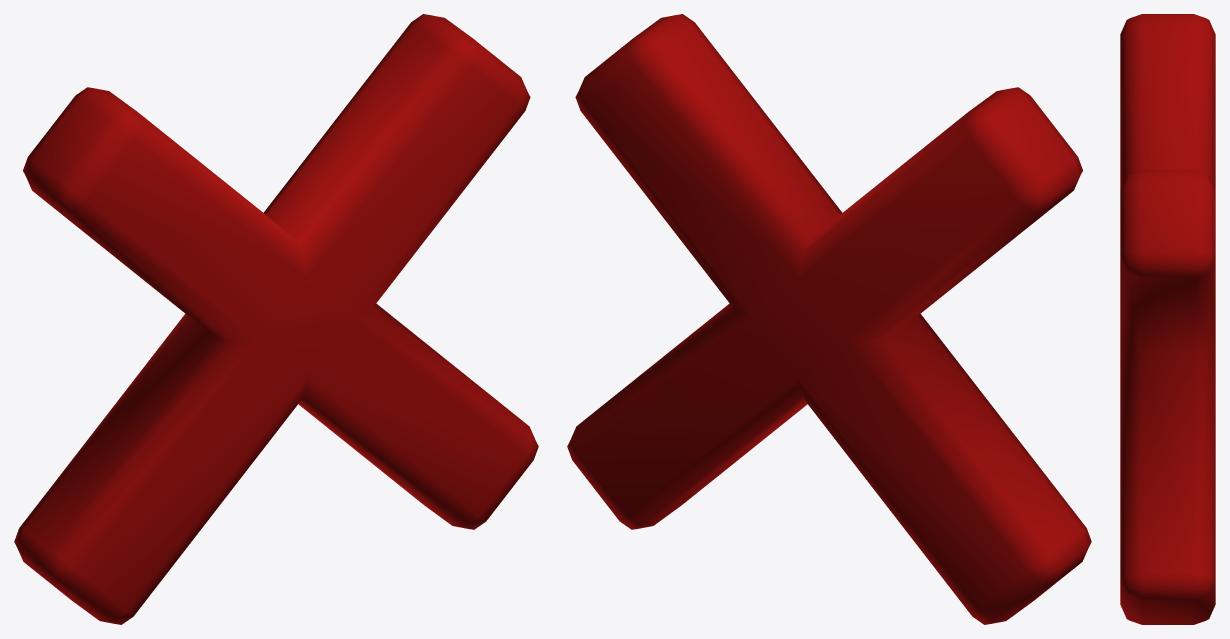
File: CrossOut.glb
The picture shows the model from 3 angles, left to right: view 1: azimuth 30°, elevation 25°; view 2: azimuth 150°, elevation 25°; view 3: azimuth 270°, elevation 25°; orthographic projection. The views are drawn at different scales.
Visible parts, largest first — view 1: Cube; view 2: Cube; view 3: Cube.
Part boxes in pixels (<box>): Cube: <box>14,14,538,624</box>; Cube: <box>567,14,1091,624</box>; Cube: <box>1120,14,1215,624</box>.
Bounding box in the file's own units: 1.64 × 1.64 × 0.3056.
